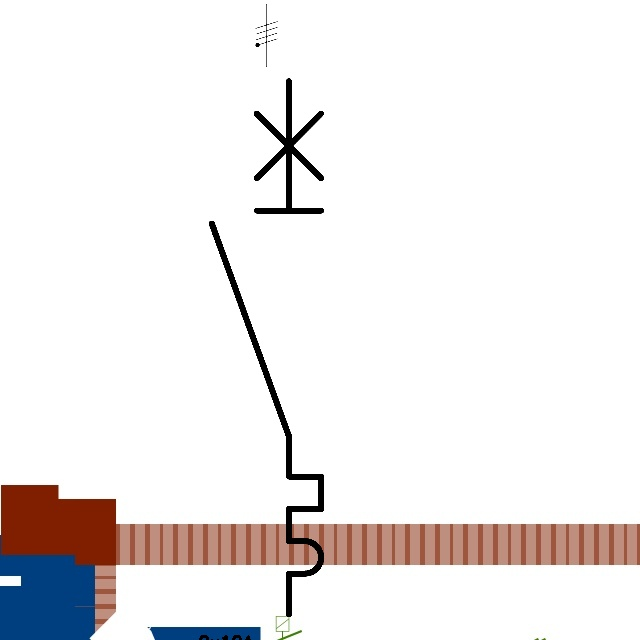interruptor_termomagnetico: (198, 67, 335, 627)
